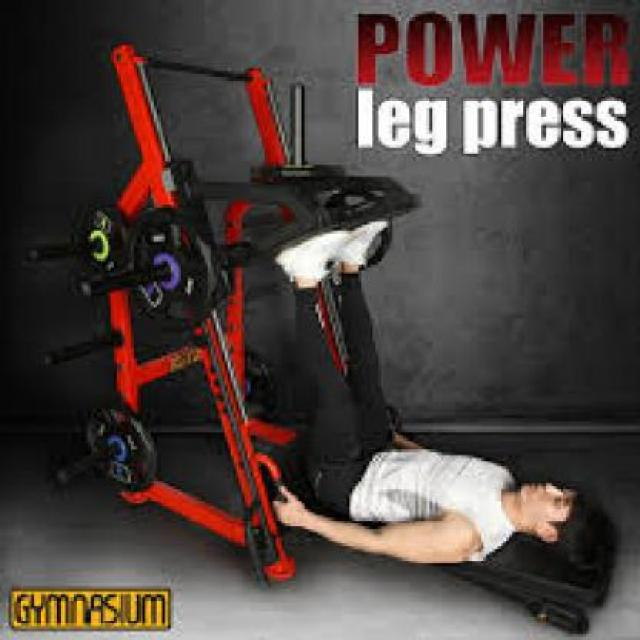leg press: (29, 40, 629, 638)
